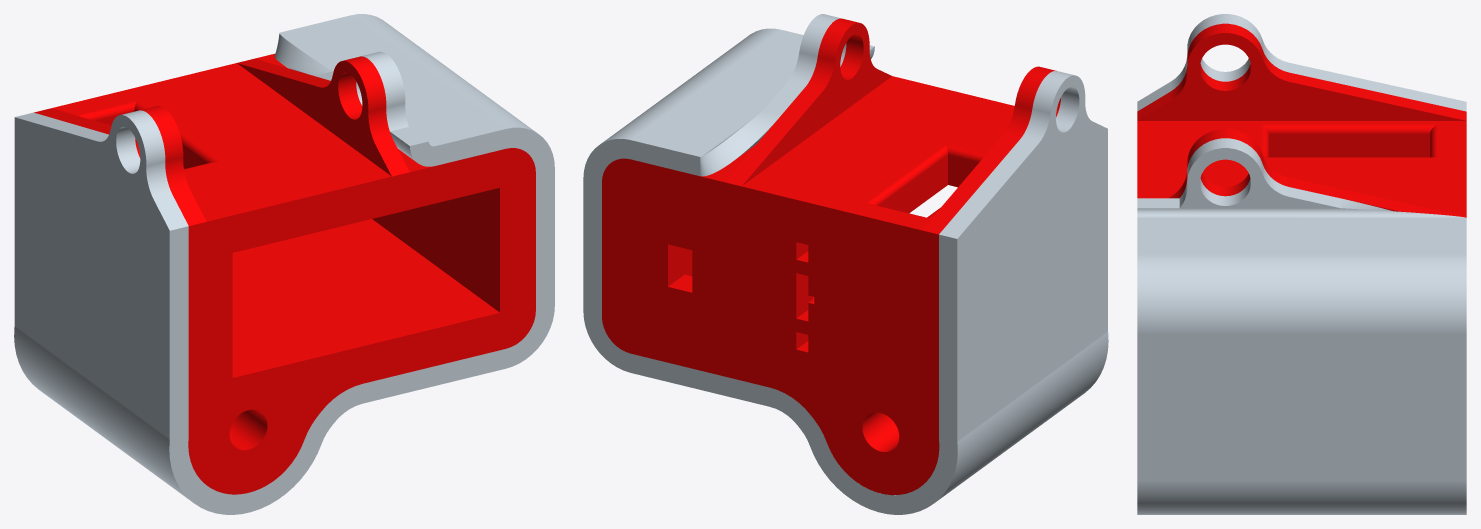
The model's file is Hub Right.dae.
3 renders of one model, left to right at view 1: azimuth 30°, elevation 25°; view 2: azimuth 150°, elevation 25°; view 3: azimuth 270°, elevation 25°, orthographic. The views are drawn at different scales.
Parts seen in each view (by area): view 1: 621a891d4813923cddf7576c (×2); view 2: 621a891d4813923cddf7576c (×2); view 3: 621a891d4813923cddf7576c (×2).
Boxes of the visible parts, x1,y1,x2,y2 form: 621a891d4813923cddf7576c (×2): [14, 14, 554, 514]; 621a891d4813923cddf7576c (×2): [583, 14, 1108, 514]; 621a891d4813923cddf7576c (×2): [1137, 14, 1466, 514].
Bounding box in the file's own units: 0.0645 × 0.045 × 0.0614.
